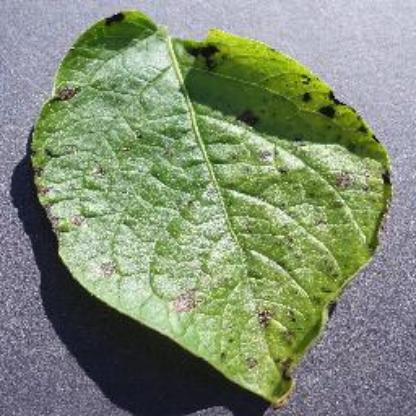Early-Blight: (30, 11, 404, 410)
